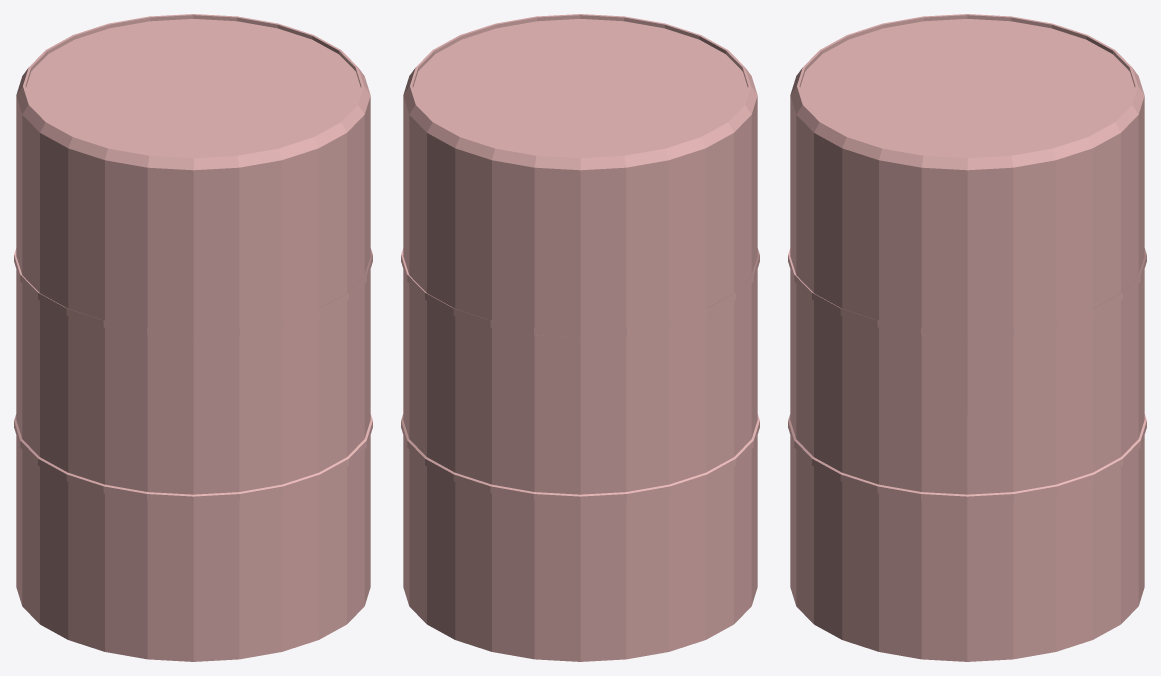
The model's file is Barrel.fbx.
3 views of the same model, side by side, from view 1: azimuth 30°, elevation 25°; view 2: azimuth 150°, elevation 25°; view 3: azimuth 270°, elevation 25° (orthographic).
Parts seen in each view (by area): view 1: Cylinder; view 2: Cylinder; view 3: Cylinder.
Part boxes in pixels (box(x1,y1,x2,y2)): Cylinder: box(14, 14, 372, 661); Cylinder: box(401, 14, 759, 661); Cylinder: box(788, 14, 1146, 661).
Bounding box in the file's own units: 202 × 312 × 202.
